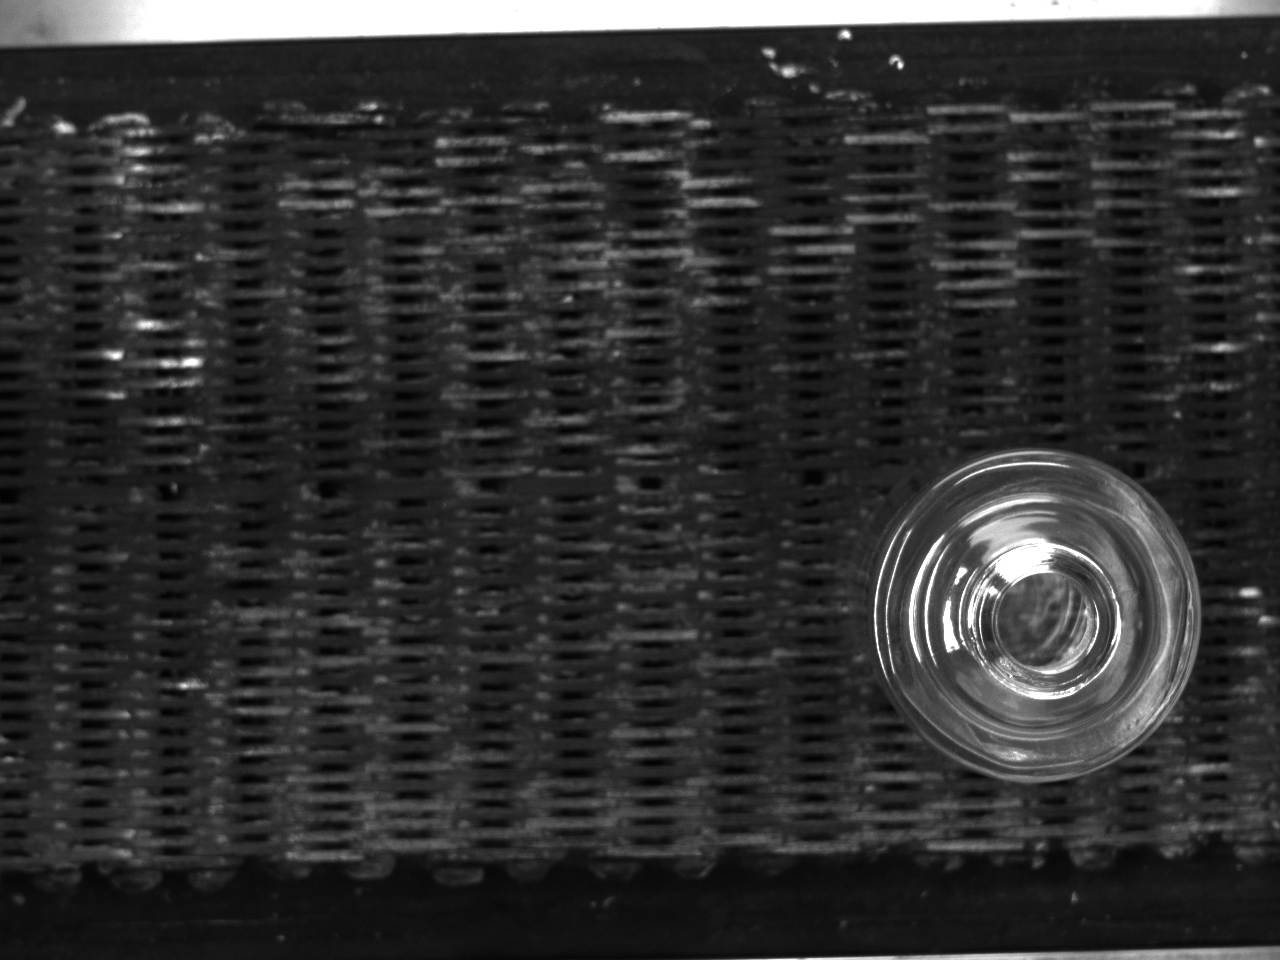bottleneck: (970, 542, 1123, 700)
